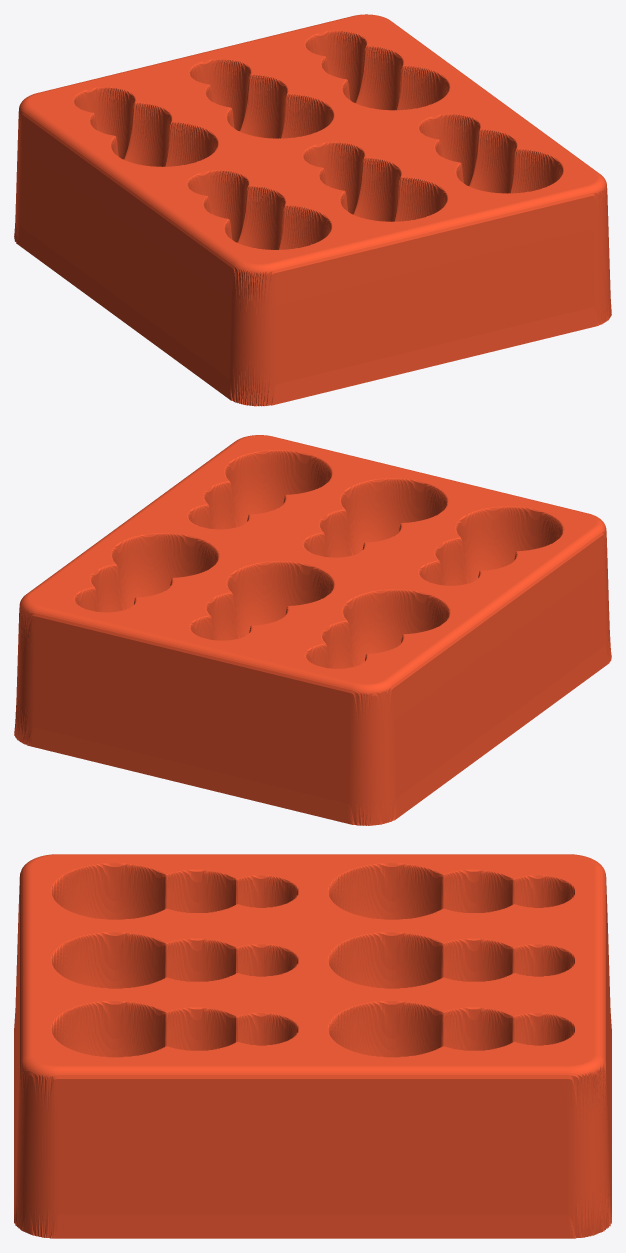
File: mold.glb
The picture shows the model from 3 angles, top to bottom: view 1: azimuth 30°, elevation 25°; view 2: azimuth 150°, elevation 25°; view 3: azimuth 270°, elevation 25°; orthographic projection. The views are drawn at different scales.
Parts seen in each view (by area): view 1: geometry_0; view 2: geometry_0; view 3: geometry_0.
Boxes of the visible parts, x1,y1,x2,y2 form: geometry_0: (14, 14, 611, 406); geometry_0: (14, 435, 611, 825); geometry_0: (14, 854, 611, 1238).
Bounding box in the file's own units: 0.11 × 0.0377 × 0.1234.
